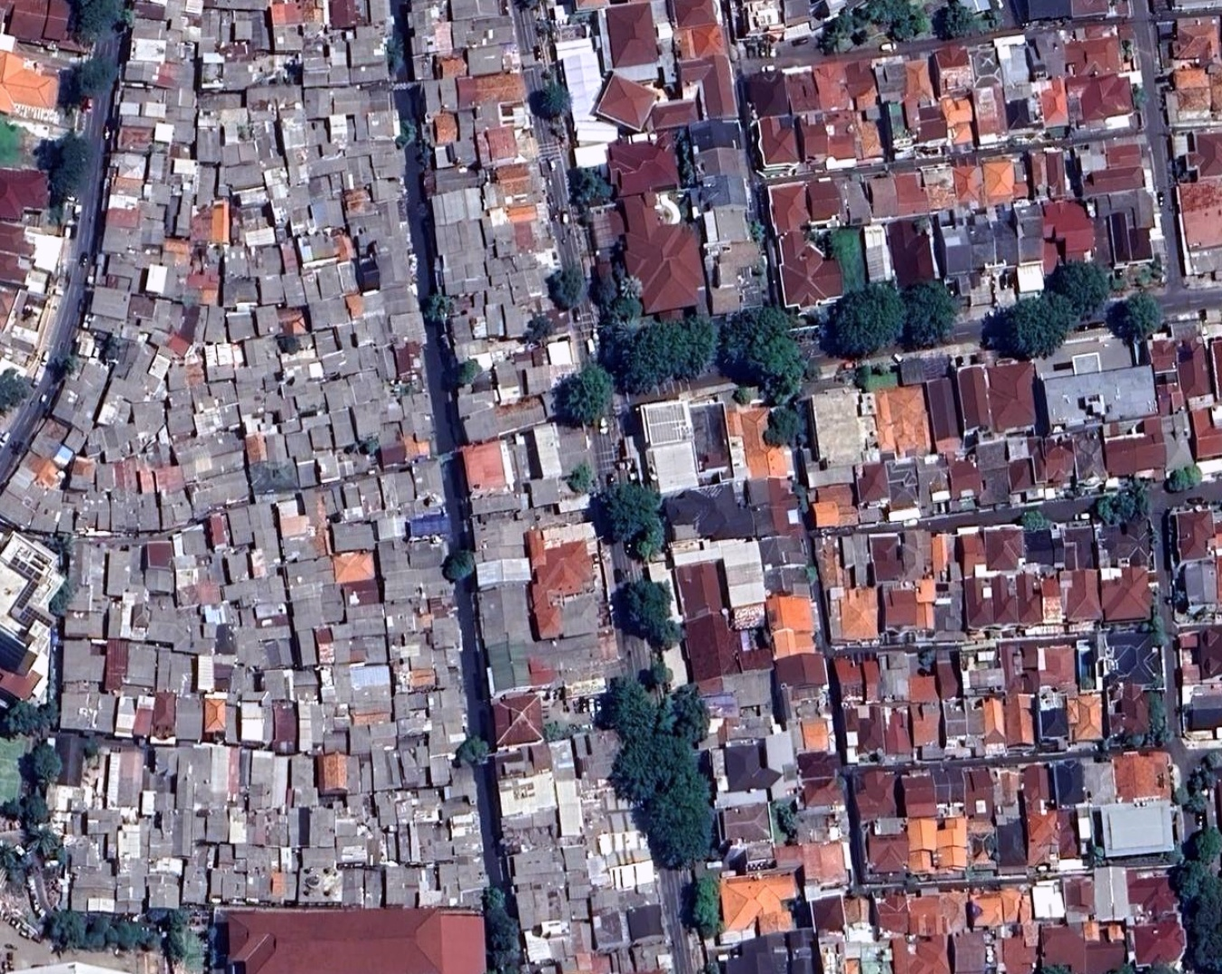building: (474, 685, 678, 974), (491, 737, 601, 936), (813, 513, 965, 641), (226, 908, 485, 973), (364, 788, 480, 905), (920, 761, 1026, 875), (616, 188, 708, 318), (0, 410, 88, 539), (0, 221, 69, 384), (0, 532, 64, 707), (487, 630, 623, 707), (554, 33, 623, 169), (95, 334, 179, 440), (525, 526, 601, 641), (672, 536, 768, 623), (1039, 363, 1158, 432), (282, 554, 353, 668), (473, 580, 542, 697), (929, 199, 1025, 282), (42, 352, 118, 453), (770, 649, 838, 760), (856, 454, 953, 526), (1085, 185, 1166, 271), (696, 233, 774, 318), (661, 480, 758, 548), (722, 397, 794, 486), (638, 398, 702, 496), (774, 225, 846, 311), (492, 740, 560, 831), (718, 870, 802, 942), (583, 825, 657, 897), (808, 385, 871, 469), (961, 570, 1045, 632), (589, 68, 662, 138), (377, 537, 452, 604), (679, 608, 745, 684), (604, 133, 680, 198), (710, 533, 771, 612), (527, 537, 600, 603), (434, 217, 493, 298), (871, 383, 933, 460), (313, 603, 387, 667), (1099, 414, 1170, 480), (951, 153, 1030, 212), (757, 527, 818, 603), (221, 566, 294, 629), (458, 390, 546, 442), (1100, 799, 1176, 859), (1046, 425, 1112, 494), (0, 49, 59, 125), (523, 507, 595, 569), (1177, 175, 1221, 274), (173, 428, 248, 486), (999, 640, 1078, 694), (176, 744, 240, 810), (745, 470, 805, 540), (884, 214, 940, 289), (724, 928, 817, 973), (986, 359, 1040, 433), (603, 0, 660, 70), (1101, 628, 1163, 691), (184, 465, 255, 520), (905, 815, 970, 874), (845, 703, 912, 760), (488, 676, 576, 719), (689, 400, 733, 485), (921, 375, 966, 458), (765, 590, 819, 659), (1042, 200, 1095, 270), (1070, 71, 1136, 127), (1097, 565, 1155, 625), (673, 559, 727, 621), (1009, 201, 1052, 278), (142, 601, 204, 654), (490, 690, 546, 748), (58, 679, 117, 734), (721, 739, 781, 793), (1112, 749, 1173, 802), (268, 0, 328, 53), (1095, 517, 1156, 569), (159, 301, 210, 363), (267, 0, 326, 53), (0, 0, 70, 44), (513, 878, 570, 932), (696, 53, 740, 122), (125, 21, 187, 69), (330, 548, 380, 607), (455, 70, 528, 110), (137, 812, 189, 868), (1132, 916, 1188, 968), (227, 184, 278, 241), (866, 647, 916, 705), (142, 248, 195, 302), (276, 508, 328, 563), (1063, 33, 1124, 79), (754, 113, 801, 172), (460, 439, 509, 495), (408, 0, 455, 58), (740, 67, 791, 120), (970, 78, 1009, 147), (968, 887, 1032, 929), (1026, 27, 1074, 83), (0, 167, 49, 221), (937, 222, 984, 278), (1173, 338, 1214, 402), (349, 664, 392, 725), (473, 516, 530, 562), (346, 23, 388, 85), (807, 482, 860, 531), (719, 668, 773, 716), (955, 364, 993, 432), (853, 767, 898, 824), (580, 562, 612, 642), (246, 500, 283, 569), (1172, 507, 1218, 562), (85, 420, 141, 465), (1091, 865, 1133, 925), (766, 180, 811, 236), (1157, 411, 1195, 476), (1167, 67, 1210, 124), (473, 122, 523, 171), (1127, 870, 1177, 919), (1027, 438, 1077, 487), (86, 284, 132, 337), (1024, 147, 1069, 201), (319, 663, 354, 732), (975, 441, 1012, 506), (490, 156, 539, 205), (800, 840, 849, 889), (447, 806, 487, 866), (988, 764, 1028, 824), (1179, 557, 1221, 614), (719, 802, 773, 846), (554, 421, 597, 476), (509, 844, 565, 886), (142, 320, 193, 366), (959, 646, 1005, 697), (1082, 162, 1147, 198), (55, 491, 109, 534), (1179, 625, 1221, 680), (859, 221, 895, 285), (277, 331, 322, 382), (1062, 568, 1102, 625), (246, 106, 282, 169), (430, 185, 485, 226), (473, 553, 532, 591), (891, 935, 950, 973), (933, 44, 975, 97), (811, 60, 852, 114), (0, 221, 33, 288), (1041, 925, 1087, 973), (107, 747, 143, 807), (199, 53, 253, 93), (348, 205, 397, 249), (1065, 692, 1106, 744), (838, 588, 878, 641), (993, 34, 1032, 88), (646, 96, 701, 134), (758, 531, 810, 571), (1174, 17, 1221, 61), (581, 729, 620, 782), (190, 198, 232, 247), (804, 176, 845, 226), (247, 457, 299, 496), (842, 58, 881, 110), (70, 866, 115, 911), (175, 614, 220, 659), (532, 421, 565, 482), (782, 66, 822, 116), (69, 542, 104, 599), (905, 892, 947, 939), (942, 697, 983, 745), (838, 174, 875, 227), (900, 769, 938, 820), (514, 308, 559, 351), (908, 698, 945, 750), (696, 146, 748, 183), (554, 778, 585, 840), (155, 648, 195, 696), (1188, 406, 1222, 462), (929, 764, 967, 814), (1038, 644, 1076, 694), (98, 248, 142, 291), (346, 720, 399, 755), (1035, 691, 1070, 744), (61, 639, 104, 682), (866, 833, 909, 876), (383, 866, 428, 907), (885, 459, 921, 510), (1081, 757, 1118, 806), (921, 163, 958, 212), (981, 157, 1018, 206), (202, 340, 245, 382), (154, 488, 195, 532), (994, 817, 1028, 870), (832, 652, 866, 705), (434, 221, 474, 266), (984, 526, 1024, 571), (745, 473, 795, 509), (102, 208, 141, 254), (1003, 692, 1036, 746), (1049, 759, 1086, 807), (774, 653, 826, 687), (700, 173, 749, 209), (243, 51, 293, 86), (1027, 811, 1058, 867), (797, 114, 831, 165), (375, 242, 411, 290), (590, 908, 629, 952), (932, 582, 963, 637), (123, 642, 159, 689), (894, 170, 930, 217), (250, 85, 301, 118), (1019, 763, 1052, 814), (852, 112, 885, 163), (421, 863, 461, 905), (712, 203, 751, 246), (1006, 0, 1073, 25), (952, 161, 986, 210), (306, 294, 351, 331), (331, 549, 376, 586), (955, 528, 988, 578), (932, 648, 963, 701), (882, 707, 913, 760), (625, 902, 665, 943), (380, 567, 423, 605), (912, 104, 950, 147), (410, 458, 444, 506), (866, 173, 900, 221), (1038, 78, 1070, 129), (1029, 879, 1066, 923), (937, 888, 973, 933), (675, 51, 720, 87), (470, 488, 522, 519), (855, 461, 890, 507), (379, 280, 420, 319), (89, 284, 131, 322), (242, 335, 280, 377), (379, 468, 417, 510), (334, 816, 367, 864), (403, 643, 436, 691), (1062, 525, 1098, 569), (465, 15, 514, 47), (102, 637, 130, 692), (941, 97, 973, 145), (115, 861, 145, 912), (387, 310, 426, 349), (300, 486, 333, 532), (951, 931, 987, 973), (966, 768, 993, 824), (173, 554, 202, 606), (404, 508, 451, 540), (827, 111, 857, 161), (431, 164, 479, 195), (763, 730, 796, 775), (350, 313, 389, 351), (374, 537, 411, 577), (1120, 683, 1149, 734), (669, 0, 720, 29), (452, 854, 488, 895), (417, 822, 453, 863), (350, 400, 385, 442), (367, 340, 401, 383), (57, 734, 85, 786), (220, 161, 264, 194), (146, 297, 184, 335), (375, 421, 407, 466), (346, 603, 386, 639), (301, 867, 341, 903), (1000, 933, 1036, 973), (465, 43, 507, 77), (875, 893, 909, 935), (949, 458, 983, 500), (168, 386, 193, 443), (492, 358, 524, 402), (1056, 808, 1083, 860), (131, 400, 166, 440), (392, 339, 427, 379), (217, 105, 252, 145), (884, 99, 912, 149), (370, 749, 403, 791), (801, 775, 843, 808), (904, 59, 934, 105), (981, 696, 1007, 749), (290, 754, 317, 805), (291, 379, 327, 417), (798, 716, 834, 754), (12, 961, 126, 973), (1186, 692, 1221, 731), (967, 43, 1002, 82), (797, 750, 841, 781), (238, 12, 271, 53), (1086, 940, 1127, 973), (1023, 527, 1056, 568), (175, 693, 203, 741), (398, 743, 427, 789), (240, 701, 271, 744), (355, 475, 386, 518), (484, 574, 527, 605), (160, 230, 197, 266), (222, 306, 257, 344), (227, 663, 261, 702), (387, 788, 421, 827), (150, 691, 177, 740), (330, 522, 374, 552), (534, 622, 574, 655), (273, 701, 298, 753), (587, 785, 612, 837), (105, 549, 132, 597), (811, 895, 845, 933), (180, 862, 210, 905), (875, 59, 905, 102), (312, 262, 345, 301), (548, 738, 577, 782), (310, 195, 345, 231), (370, 145, 406, 180), (447, 135, 482, 171), (520, 362, 555, 398), (164, 404, 196, 443), (320, 347, 359, 379), (32, 233, 63, 273), (1074, 141, 1109, 176), (190, 405, 226, 439), (528, 476, 565, 509), (327, 407, 356, 449), (318, 752, 347, 794), (221, 275, 259, 307), (226, 505, 254, 548), (1198, 626, 1221, 678), (69, 364, 104, 398), (64, 836, 100, 869), (111, 149, 148, 181), (336, 448, 373, 480), (744, 0, 781, 32), (520, 266, 550, 305), (1063, 876, 1093, 915), (1195, 131, 1221, 176), (110, 488, 137, 531), (306, 152, 349, 179), (269, 755, 290, 810), (321, 377, 354, 412), (186, 271, 219, 306), (351, 371, 387, 403), (236, 368, 272, 400), (219, 244, 251, 280), (131, 694, 156, 740), (198, 89, 244, 114), (115, 823, 143, 864), (236, 627, 264, 668), (879, 611, 920, 639), (130, 18, 167, 49), (139, 202, 165, 246), (67, 455, 97, 493), (430, 108, 460, 146), (274, 186, 307, 220), (1007, 457, 1037, 494), (349, 664, 390, 691), (110, 593, 134, 639), (455, 340, 493, 369), (175, 525, 208, 558), (147, 744, 180, 777), (106, 207, 140, 239), (211, 869, 245, 901), (110, 172, 145, 203), (378, 203, 409, 238), (172, 192, 195, 239), (48, 783, 84, 813), (113, 695, 138, 738), (129, 36, 167, 64), (115, 125, 153, 153), (148, 875, 180, 908), (283, 429, 314, 463), (374, 512, 408, 543), (446, 767, 476, 802), (1156, 380, 1186, 415), (737, 646, 774, 674), (195, 165, 218, 210), (280, 271, 307, 309), (407, 542, 445, 569), (153, 463, 185, 495), (402, 408, 433, 441), (1004, 97, 1034, 131), (204, 512, 230, 551), (310, 807, 335, 847), (123, 59, 160, 86), (247, 810, 274, 847), (430, 617, 461, 649), (370, 175, 404, 204), (118, 84, 146, 119), (347, 154, 375, 189), (280, 116, 308, 151), (203, 696, 226, 738), (62, 609, 93, 640), (251, 245, 282, 276), (330, 86, 361, 117), (240, 406, 270, 438), (277, 305, 307, 337), (127, 293, 156, 326), (1150, 338, 1178, 372), (157, 62, 193, 88), (374, 790, 398, 829), (171, 12, 201, 43), (376, 440, 408, 469), (142, 441, 174, 470), (473, 101, 502, 133), (589, 886, 621, 915), (83, 810, 120, 835), (1105, 142, 1142, 167), (917, 579, 935, 630), (249, 750, 274, 786), (208, 378, 238, 408), (196, 127, 221, 163), (349, 63, 388, 86), (311, 327, 339, 359), (141, 179, 173, 207), (315, 451, 342, 484), (253, 304, 280, 337), (355, 255, 379, 292), (435, 77, 460, 112), (136, 493, 159, 531), (310, 117, 333, 155), (341, 868, 364, 906), (483, 301, 506, 339), (270, 872, 297, 904), (442, 718, 469, 750), (491, 221, 515, 257), (1180, 644, 1201, 685), (243, 432, 269, 465), (288, 808, 310, 847), (421, 80, 443, 119), (503, 304, 528, 338), (909, 673, 938, 702), (336, 260, 360, 295), (367, 111, 395, 141), (307, 422, 334, 453), (304, 89, 331, 120), (243, 225, 276, 250), (200, 11, 220, 52), (1070, 0, 1113, 19), (393, 693, 427, 717), (204, 307, 226, 344), (305, 173, 334, 201), (1003, 840, 1032, 868), (329, 0, 357, 29), (457, 108, 475, 153), (781, 0, 811, 27), (333, 321, 359, 352), (258, 274, 284, 305), (274, 844, 300, 875), (246, 846, 278, 871), (449, 314, 474, 346), (931, 534, 950, 576), (144, 263, 168, 296), (144, 541, 173, 568), (144, 568, 173, 595), (403, 434, 432, 461), (546, 339, 573, 368), (129, 0, 166, 21), (315, 628, 336, 665), (94, 460, 118, 492), (246, 871, 270, 903), (1071, 351, 1103, 375), (363, 869, 383, 907), (198, 572, 221, 605), (248, 546, 271, 579), (279, 239, 300, 275), (303, 58, 329, 87), (302, 847, 336, 869), (166, 362, 190, 393), (331, 230, 354, 262), (363, 85, 390, 112), (24, 268, 50, 296), (113, 459, 135, 492), (429, 754, 451, 787), (505, 202, 538, 224), (280, 515, 311, 538), (228, 808, 247, 845), (608, 807, 634, 834), (217, 403, 242, 431), (55, 504, 78, 534), (195, 246, 220, 273), (438, 687, 465, 712), (340, 481, 362, 511), (344, 189, 369, 215), (435, 664, 461, 689), (439, 55, 467, 78), (266, 433, 287, 463), (349, 725, 370, 755), (0, 288, 14, 331), (151, 121, 175, 146), (361, 291, 384, 317), (356, 345, 378, 372), (107, 193, 138, 212), (340, 346, 359, 377), (197, 655, 213, 691), (366, 0, 390, 24), (297, 460, 318, 487), (344, 292, 365, 319), (431, 143, 452, 170), (346, 755, 360, 795), (296, 235, 315, 264), (290, 205, 309, 234), (397, 824, 411, 863), (121, 114, 155, 130), (329, 115, 347, 145), (488, 258, 508, 285), (339, 845, 367, 864), (137, 465, 155, 494), (148, 152, 166, 181), (190, 812, 206, 844), (96, 495, 110, 531), (917, 578, 936, 604), (278, 395, 296, 422), (139, 789, 156, 817), (348, 638, 367, 663), (175, 88, 195, 111), (219, 144, 239, 167), (960, 0, 992, 14), (0, 411, 13, 445), (232, 20, 252, 42), (330, 41, 346, 67), (288, 146, 308, 166), (203, 606, 224, 625), (329, 65, 348, 86), (217, 845, 234, 868), (168, 107, 194, 122), (173, 158, 195, 175), (334, 833, 346, 863), (1045, 575, 1063, 595), (388, 399, 403, 422), (354, 113, 367, 139), (298, 895, 329, 905), (299, 700, 305, 746), (708, 718, 724, 735), (698, 681, 716, 696), (309, 362, 324, 379), (583, 677, 604, 689), (459, 804, 472, 820), (516, 609, 528, 626), (108, 244, 128, 252), (864, 509, 876, 521), (251, 800, 265, 808), (382, 674, 388, 691)
tree: (704, 287, 804, 383), (630, 773, 723, 872), (606, 565, 698, 657), (591, 476, 676, 569), (599, 721, 685, 812), (546, 351, 633, 438), (996, 283, 1082, 368), (1044, 249, 1122, 327), (619, 315, 684, 398), (593, 673, 670, 743), (830, 288, 904, 360), (1105, 284, 1176, 354), (1086, 477, 1159, 536), (45, 131, 95, 210), (667, 315, 726, 381), (900, 282, 957, 350), (823, 225, 877, 296), (477, 882, 521, 969), (753, 337, 809, 402), (1183, 876, 1220, 973), (0, 688, 61, 744), (656, 685, 712, 744), (1173, 748, 1222, 814), (599, 293, 649, 353), (863, 0, 928, 45), (685, 874, 729, 938), (70, 0, 134, 43), (65, 54, 115, 106), (813, 5, 863, 56), (1, 787, 56, 833), (541, 264, 591, 314), (40, 904, 90, 954), (88, 919, 162, 952), (446, 728, 495, 774), (526, 83, 575, 128), (1167, 856, 1212, 905), (763, 405, 810, 451), (435, 543, 480, 588), (21, 740, 62, 788), (567, 163, 612, 202), (1159, 463, 1205, 499), (25, 821, 65, 861), (934, 5, 978, 38), (769, 804, 805, 842), (1190, 825, 1222, 865), (0, 843, 32, 880), (453, 354, 486, 387), (1151, 695, 1172, 744), (160, 926, 188, 961), (848, 362, 878, 393), (423, 293, 454, 323), (4, 375, 30, 410), (148, 908, 188, 930), (385, 38, 410, 72), (1017, 507, 1051, 531), (1150, 609, 1170, 649), (52, 584, 75, 617), (391, 119, 418, 147), (566, 467, 596, 491), (849, 26, 875, 52), (1083, 842, 1107, 865), (655, 665, 676, 688), (1128, 87, 1147, 111), (809, 228, 832, 247), (749, 221, 769, 241), (703, 957, 721, 974), (362, 439, 381, 454)
